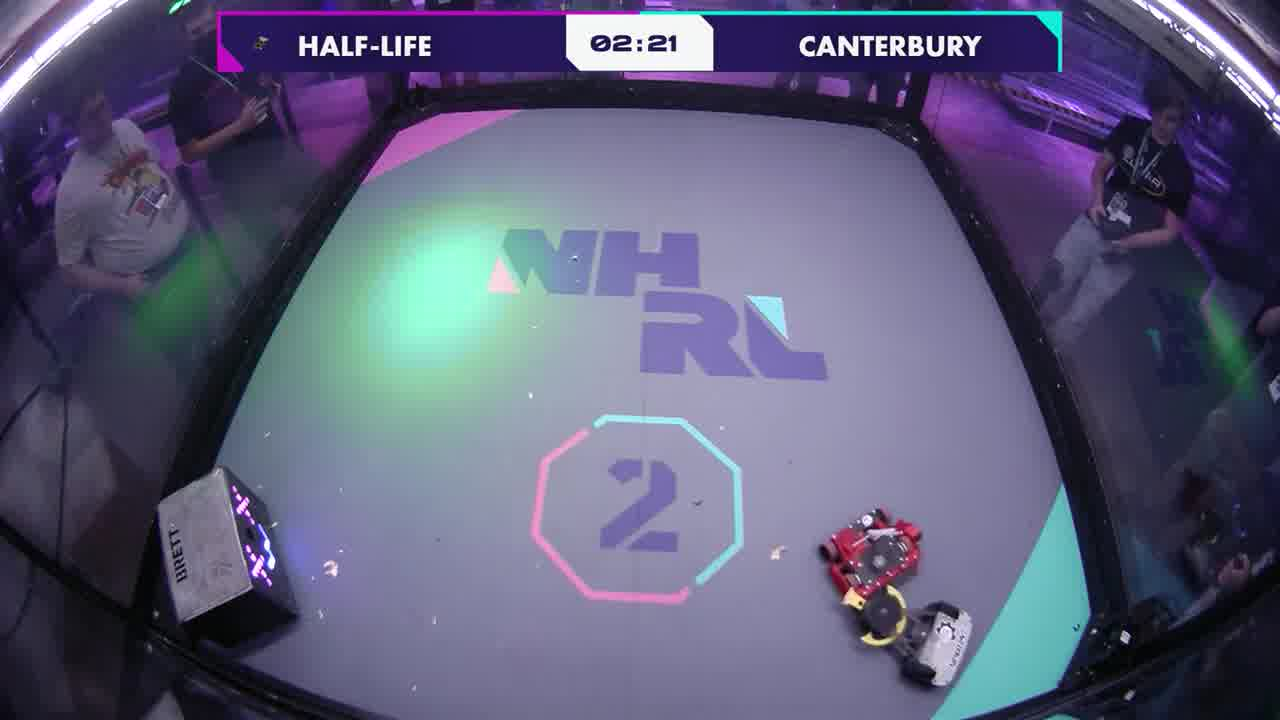combatbot: (846, 584, 975, 688), (816, 506, 927, 605)
housebot: (154, 467, 300, 640)
